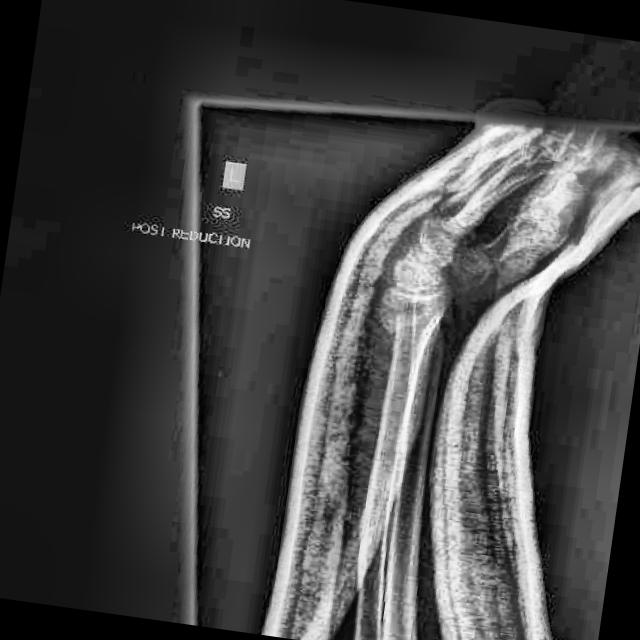wrist positive: (354, 284, 468, 360)
